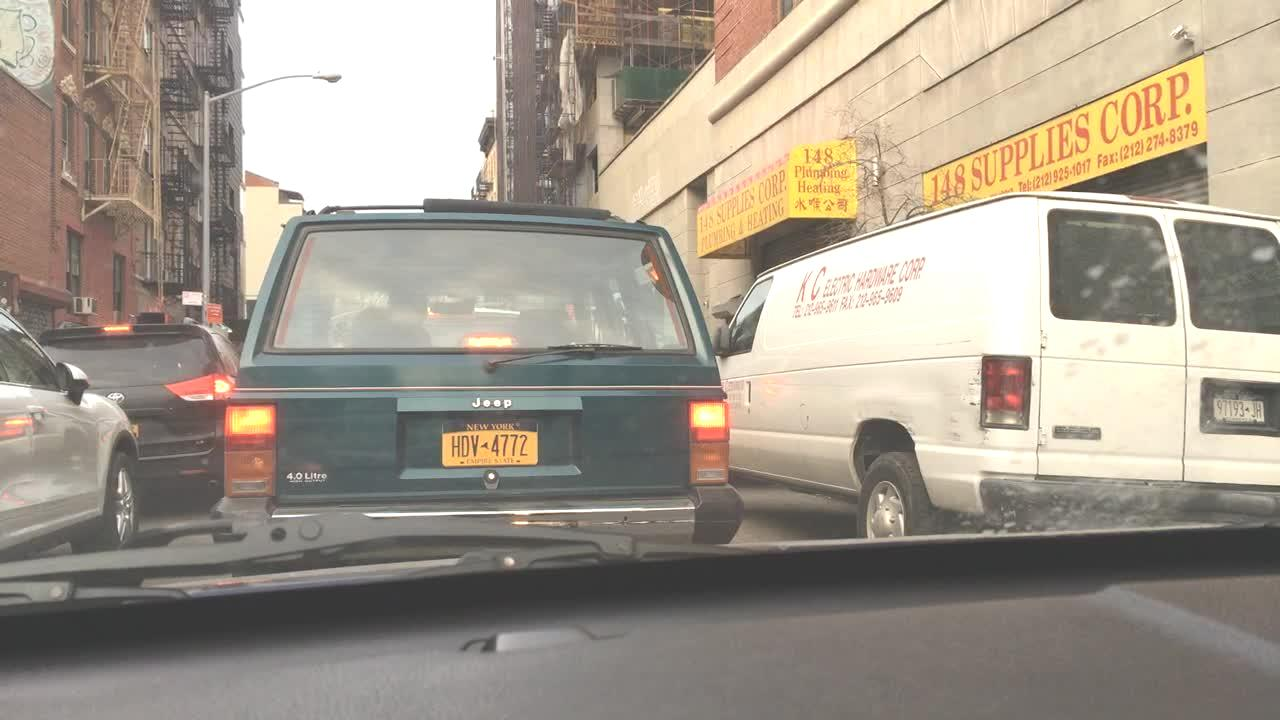Toyota: (108, 388, 128, 405)
jeep: (467, 392, 532, 424)
